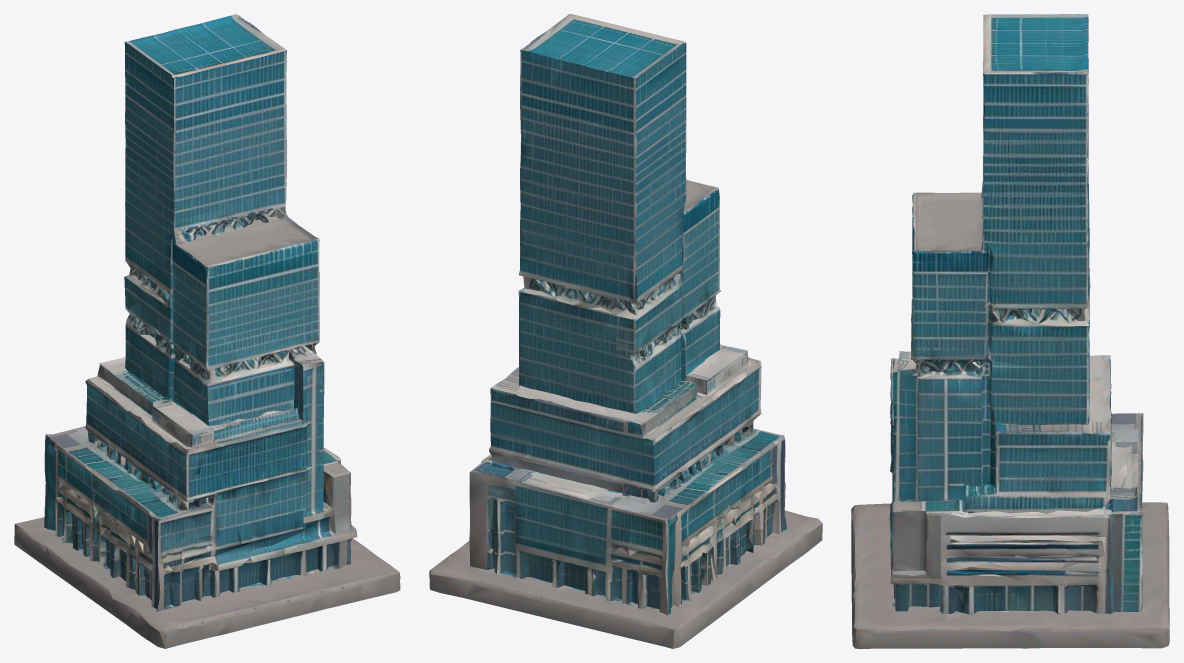
Rendered from abeno-harukas.glb.
3 renders of one model, left to right at view 1: azimuth 30°, elevation 25°; view 2: azimuth 150°, elevation 25°; view 3: azimuth 270°, elevation 25°, orthographic. The views are drawn at different scales.
Visible parts, largest first — view 1: logan-textured.obj; view 2: logan-textured.obj; view 3: logan-textured.obj.
Boxes of the visible parts, <box> form: logan-textured.obj: <box>14,14,400,648</box>; logan-textured.obj: <box>429,14,822,648</box>; logan-textured.obj: <box>851,14,1169,648</box>.
Bounding box in the file's own units: 0.5032 × 1 × 0.527.
1 material, 1 textured.
